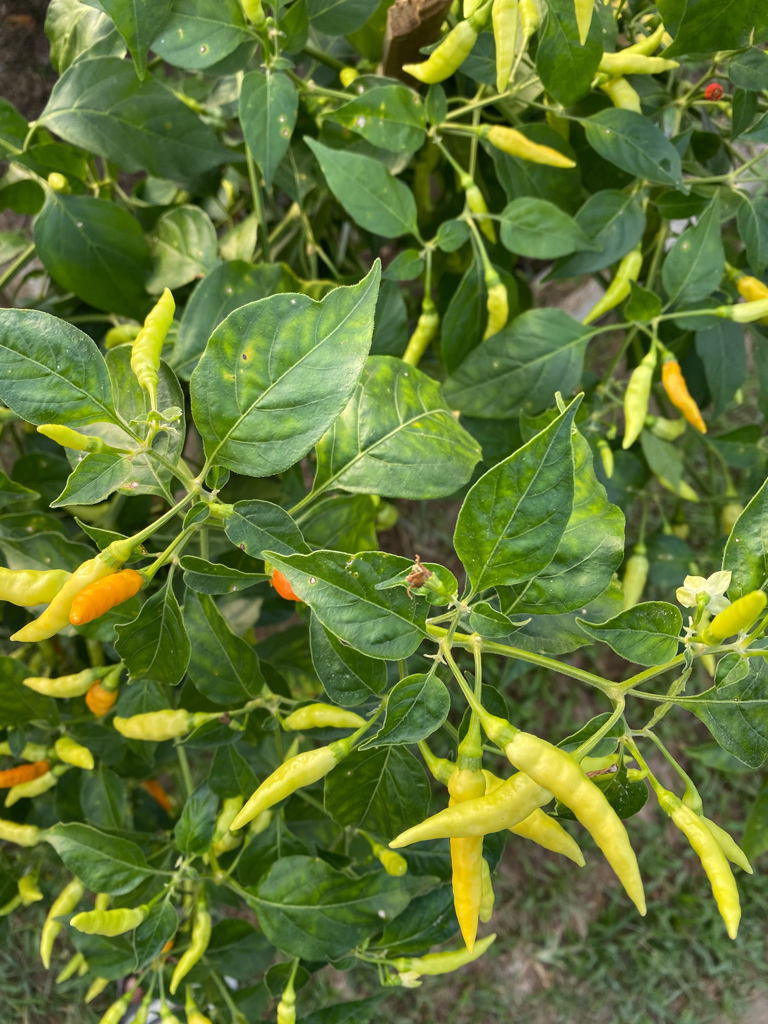frog-eye leafspot: (235, 343, 259, 368), (274, 110, 292, 139), (341, 563, 362, 581), (194, 40, 211, 57), (305, 572, 321, 589), (354, 112, 369, 128), (127, 479, 141, 490), (376, 100, 388, 112), (680, 239, 691, 251), (604, 123, 612, 137)
